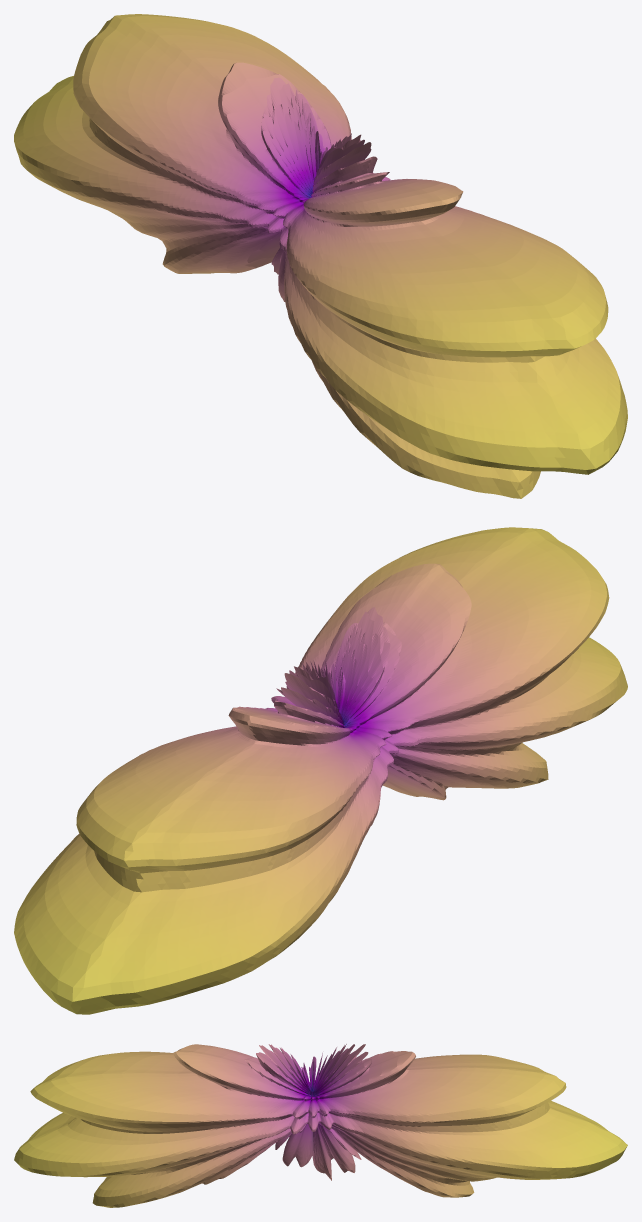
File: antenna_out.glb
3 renders of one model, top to bottom at view 1: azimuth 30°, elevation 25°; view 2: azimuth 150°, elevation 25°; view 3: azimuth 270°, elevation 25°, orthographic. The views are drawn at different scales.
Bounding box in the file's own units: 0.4232 × 0.416 × 1.49.
